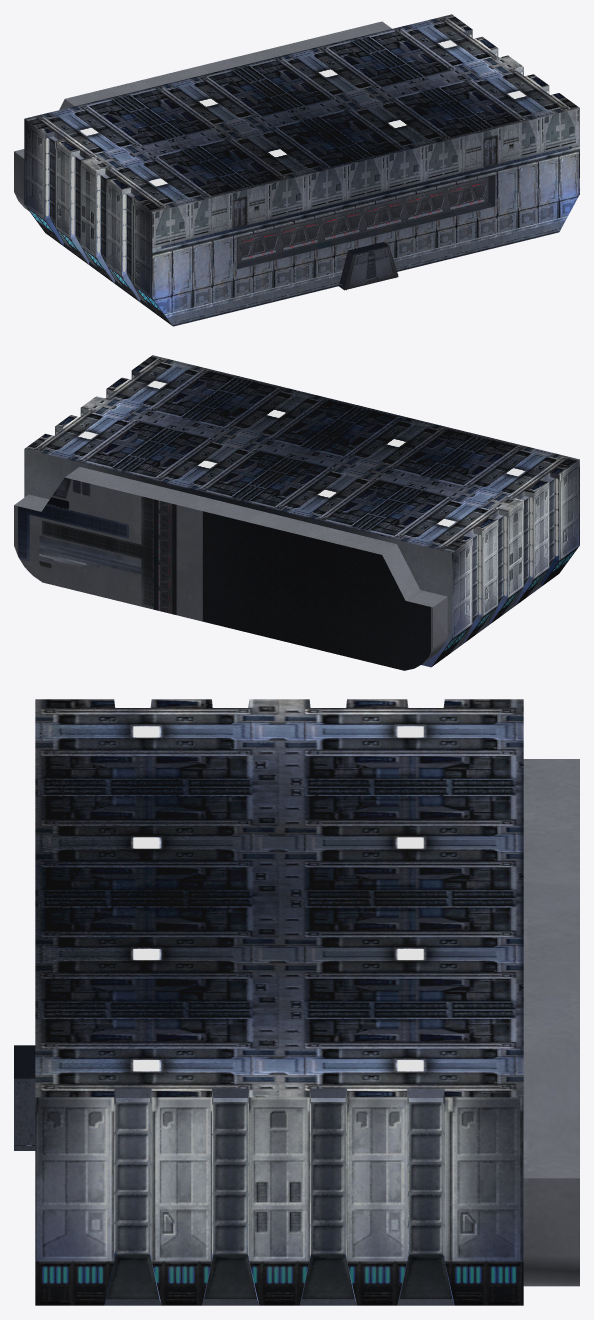
Rendered from hangar.fbx.
3 renders of one model, top to bottom at view 1: azimuth 30°, elevation 25°; view 2: azimuth 150°, elevation 25°; view 3: azimuth 270°, elevation 25°, orthographic. The views are drawn at different scales.
Visible parts, largest first — view 1: Hangars; view 2: Hangars, Hangars.001; view 3: Hangars.
Boxes of the visible parts, x1,y1,x2,y2 form: Hangars: (14, 14, 579, 326); Hangars: (14, 355, 579, 667); Hangars.001: (14, 477, 432, 670); Hangars: (14, 699, 579, 1305).
Bounding box in the file's own units: 2364 × 638 × 1420.
